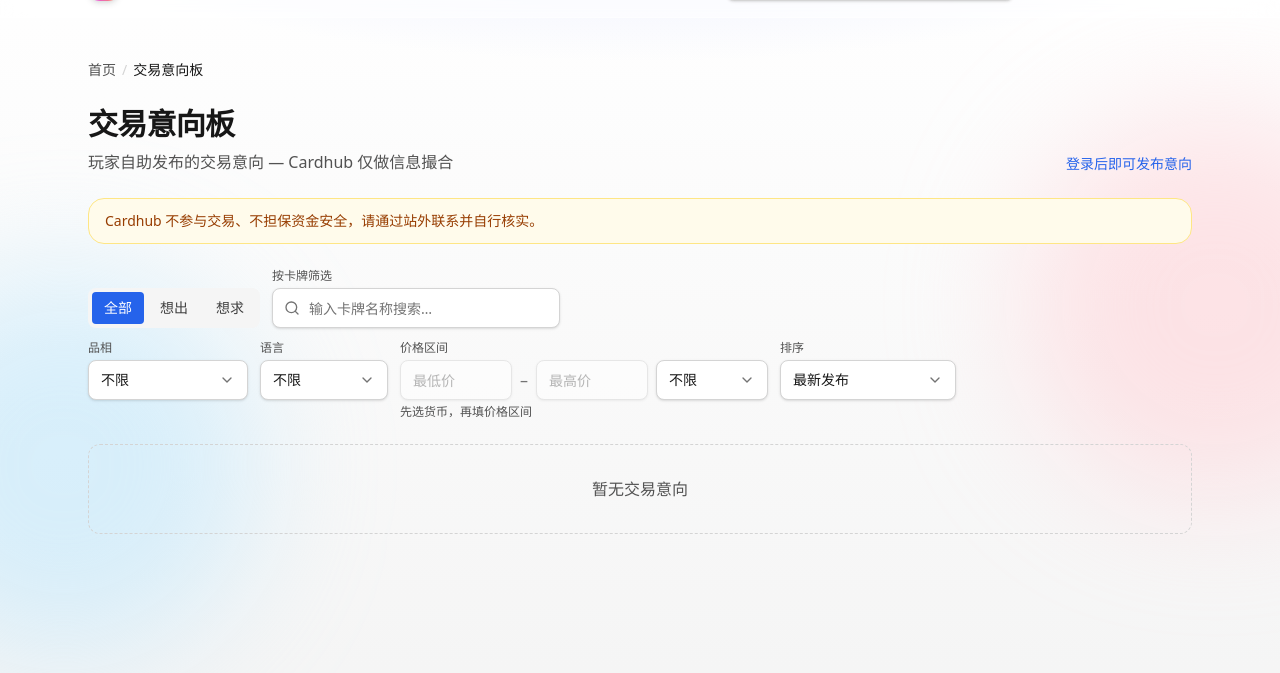
Test: TradeListPage price filters › removes currency auto-attached by a price range when that range is cleared
Click the dropdown labelled "最新发布": click(868, 380) [780, 360, 956, 400]
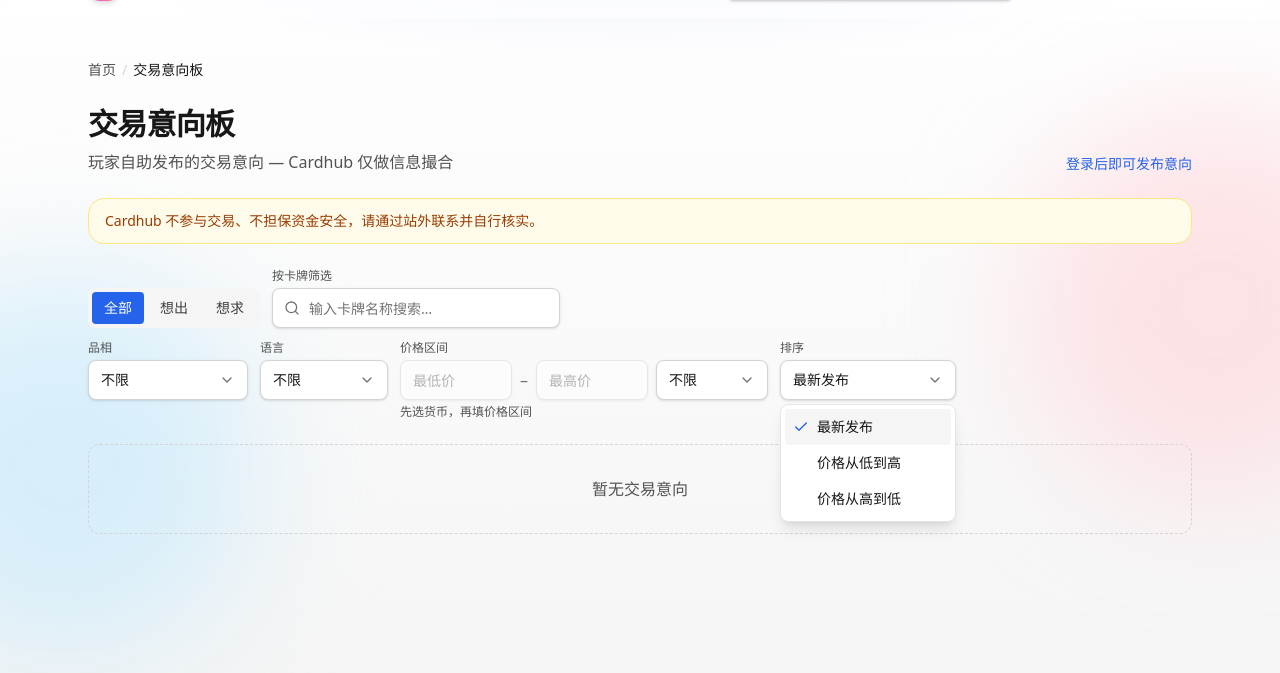
Press Arrowdown Enter
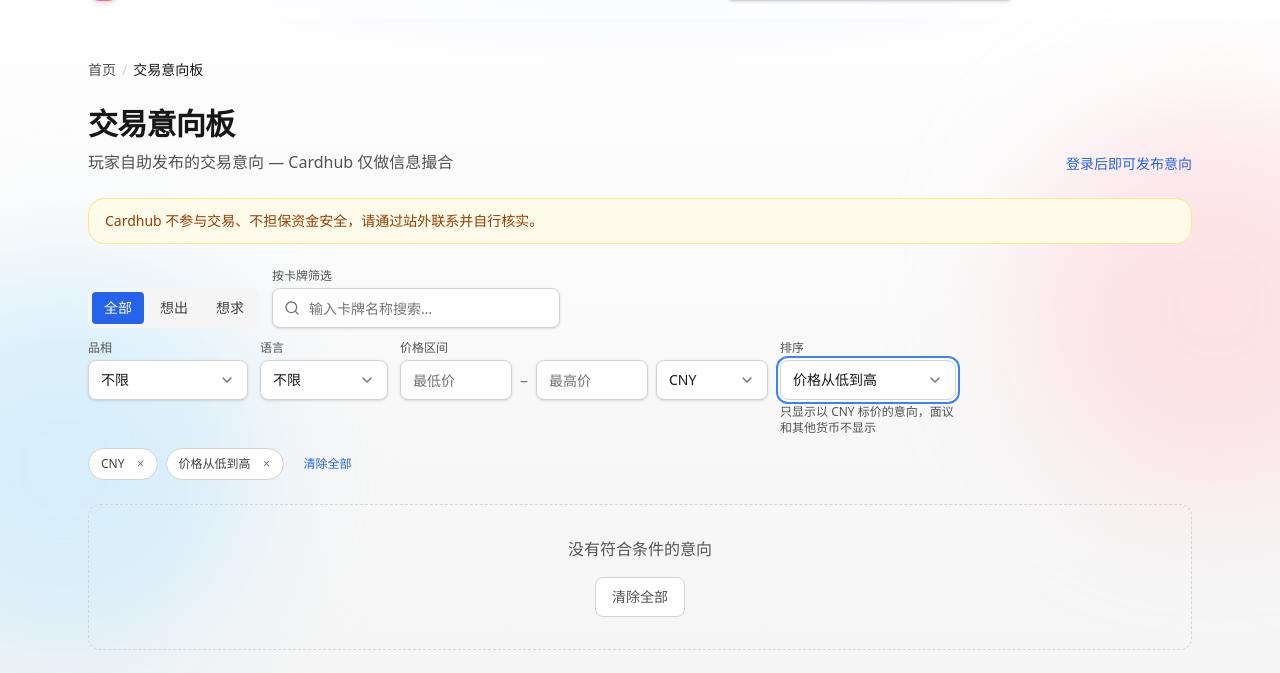
In the field labelled "最低价": (456, 380) [400, 360, 512, 400], type "10"
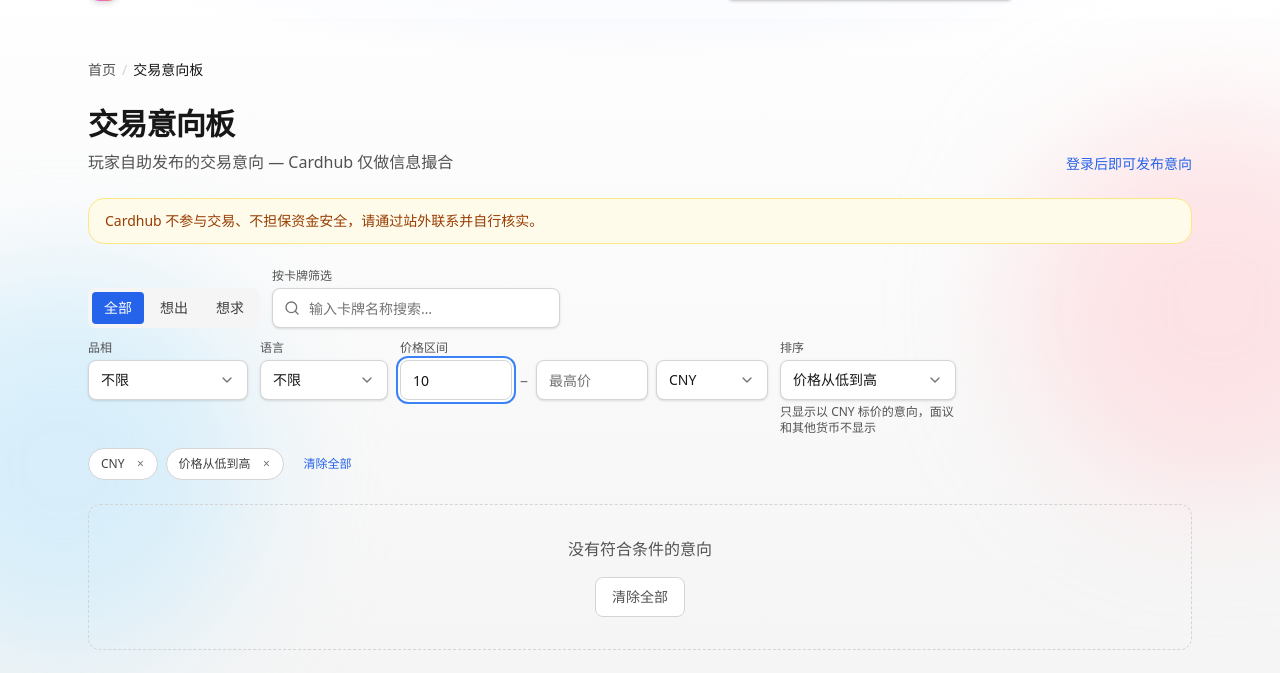
Press Tab
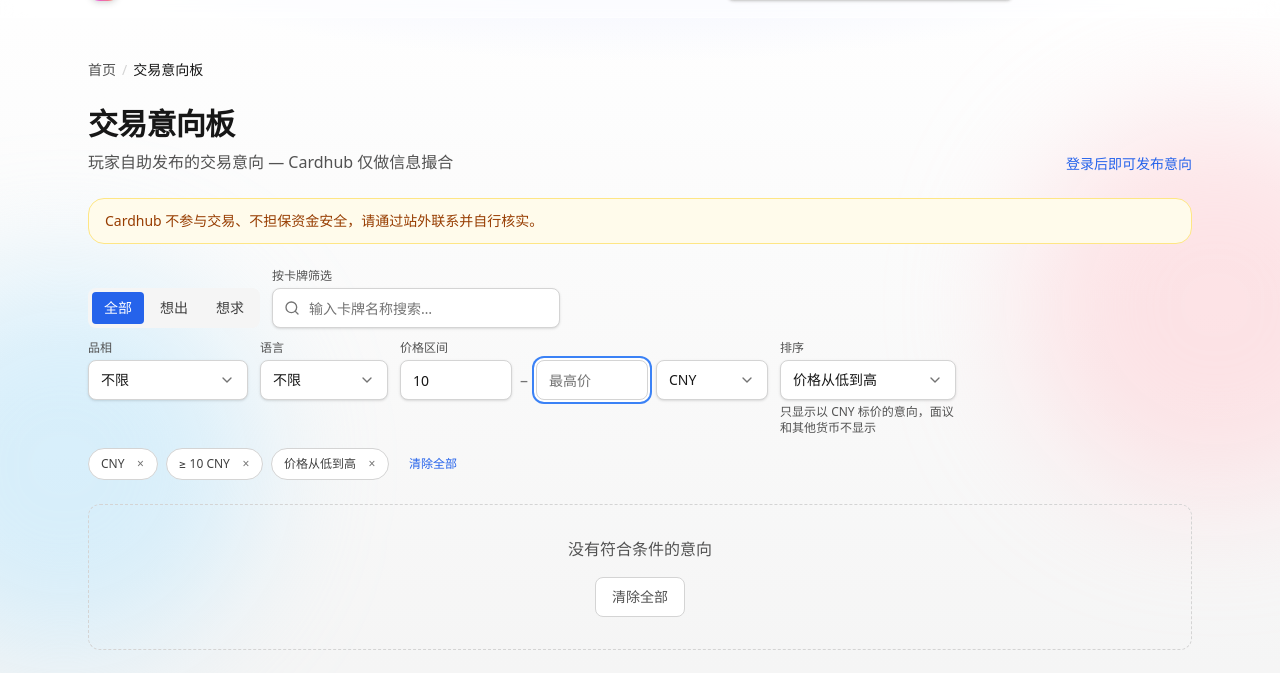
Click the button named "清除 价格区间": click(246, 464) [234, 452, 258, 476]
(page scrolled)
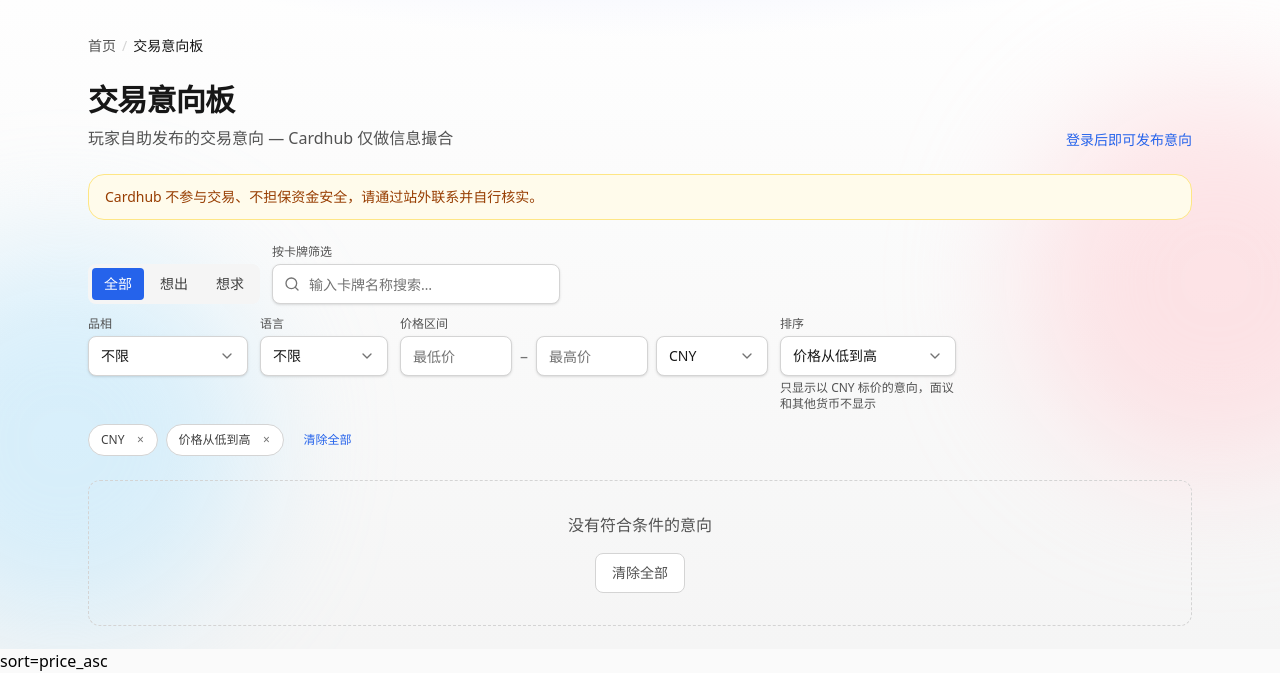
expect the text named "search" reads "sort=price_asc": met, box [0, 650, 108, 672]
